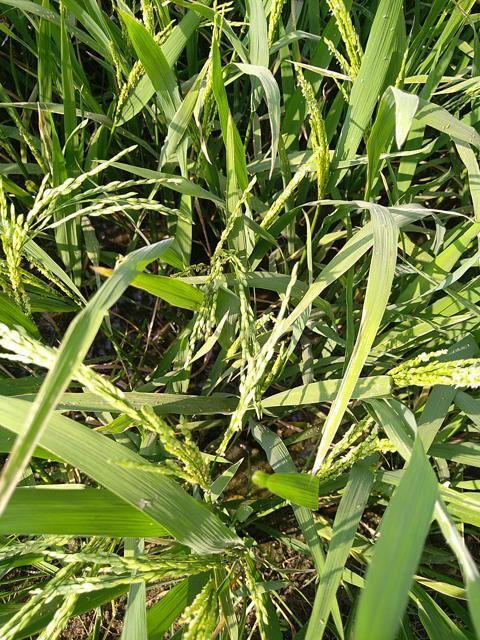Leaf Blight: (312, 204, 412, 477)
